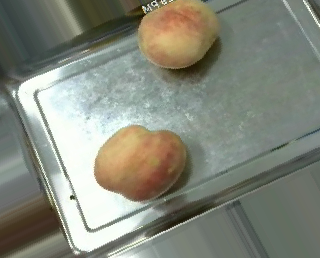Peach: (93, 124, 186, 202), (136, 0, 219, 69)
